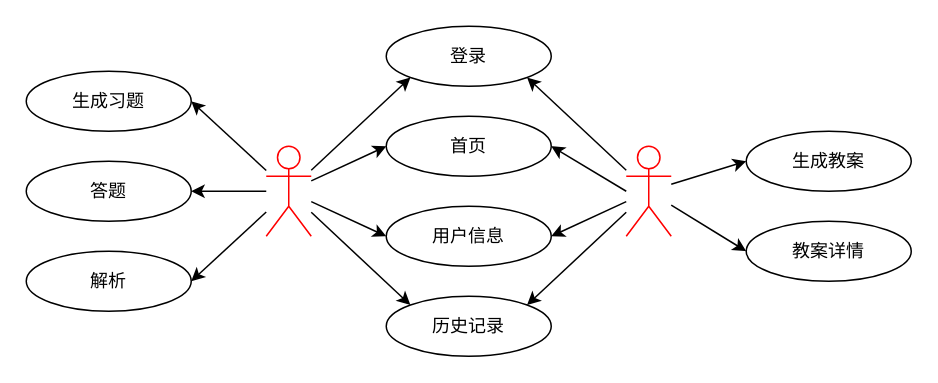
This 938x383 diagram has some shape labels left out. Here are the shapes that lost their labels. From the top down, the box of each, then its label:
(265, 145, 311, 236): 学生
(625, 145, 671, 236): 教师
